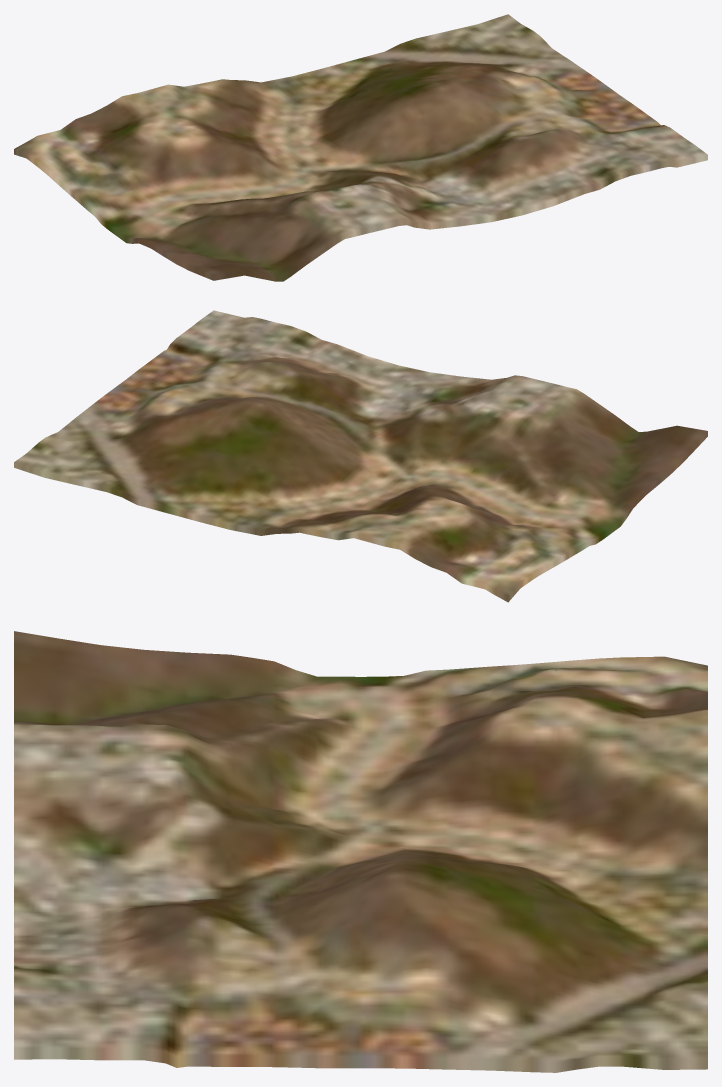
The model's file is terrain_r6_c6_lod2.glb.
3 views of the same model, one above another, from view 1: azimuth 30°, elevation 25°; view 2: azimuth 150°, elevation 25°; view 3: azimuth 270°, elevation 25° (orthographic). The views are drawn at different scales.
Visible parts, largest first — view 1: terrain_r6_c6_lod2; view 2: terrain_r6_c6_lod2; view 3: terrain_r6_c6_lod2.
Boxes of the visible parts, x1,y1,x2,y2 form: terrain_r6_c6_lod2: (14, 14, 707, 281); terrain_r6_c6_lod2: (14, 310, 707, 602); terrain_r6_c6_lod2: (14, 631, 707, 1072).
Size of the model in its own units: 1125 by 123 by 787.
Materials: 1 (1 with a texture image).
